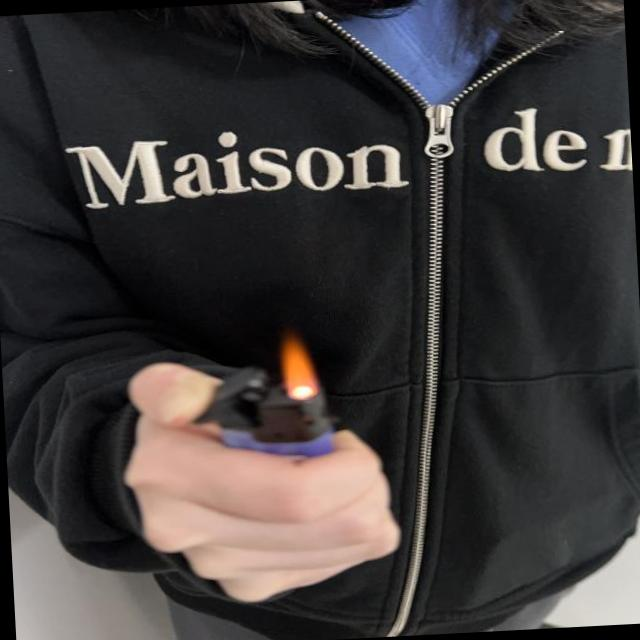Fire: (279, 329, 321, 403)
